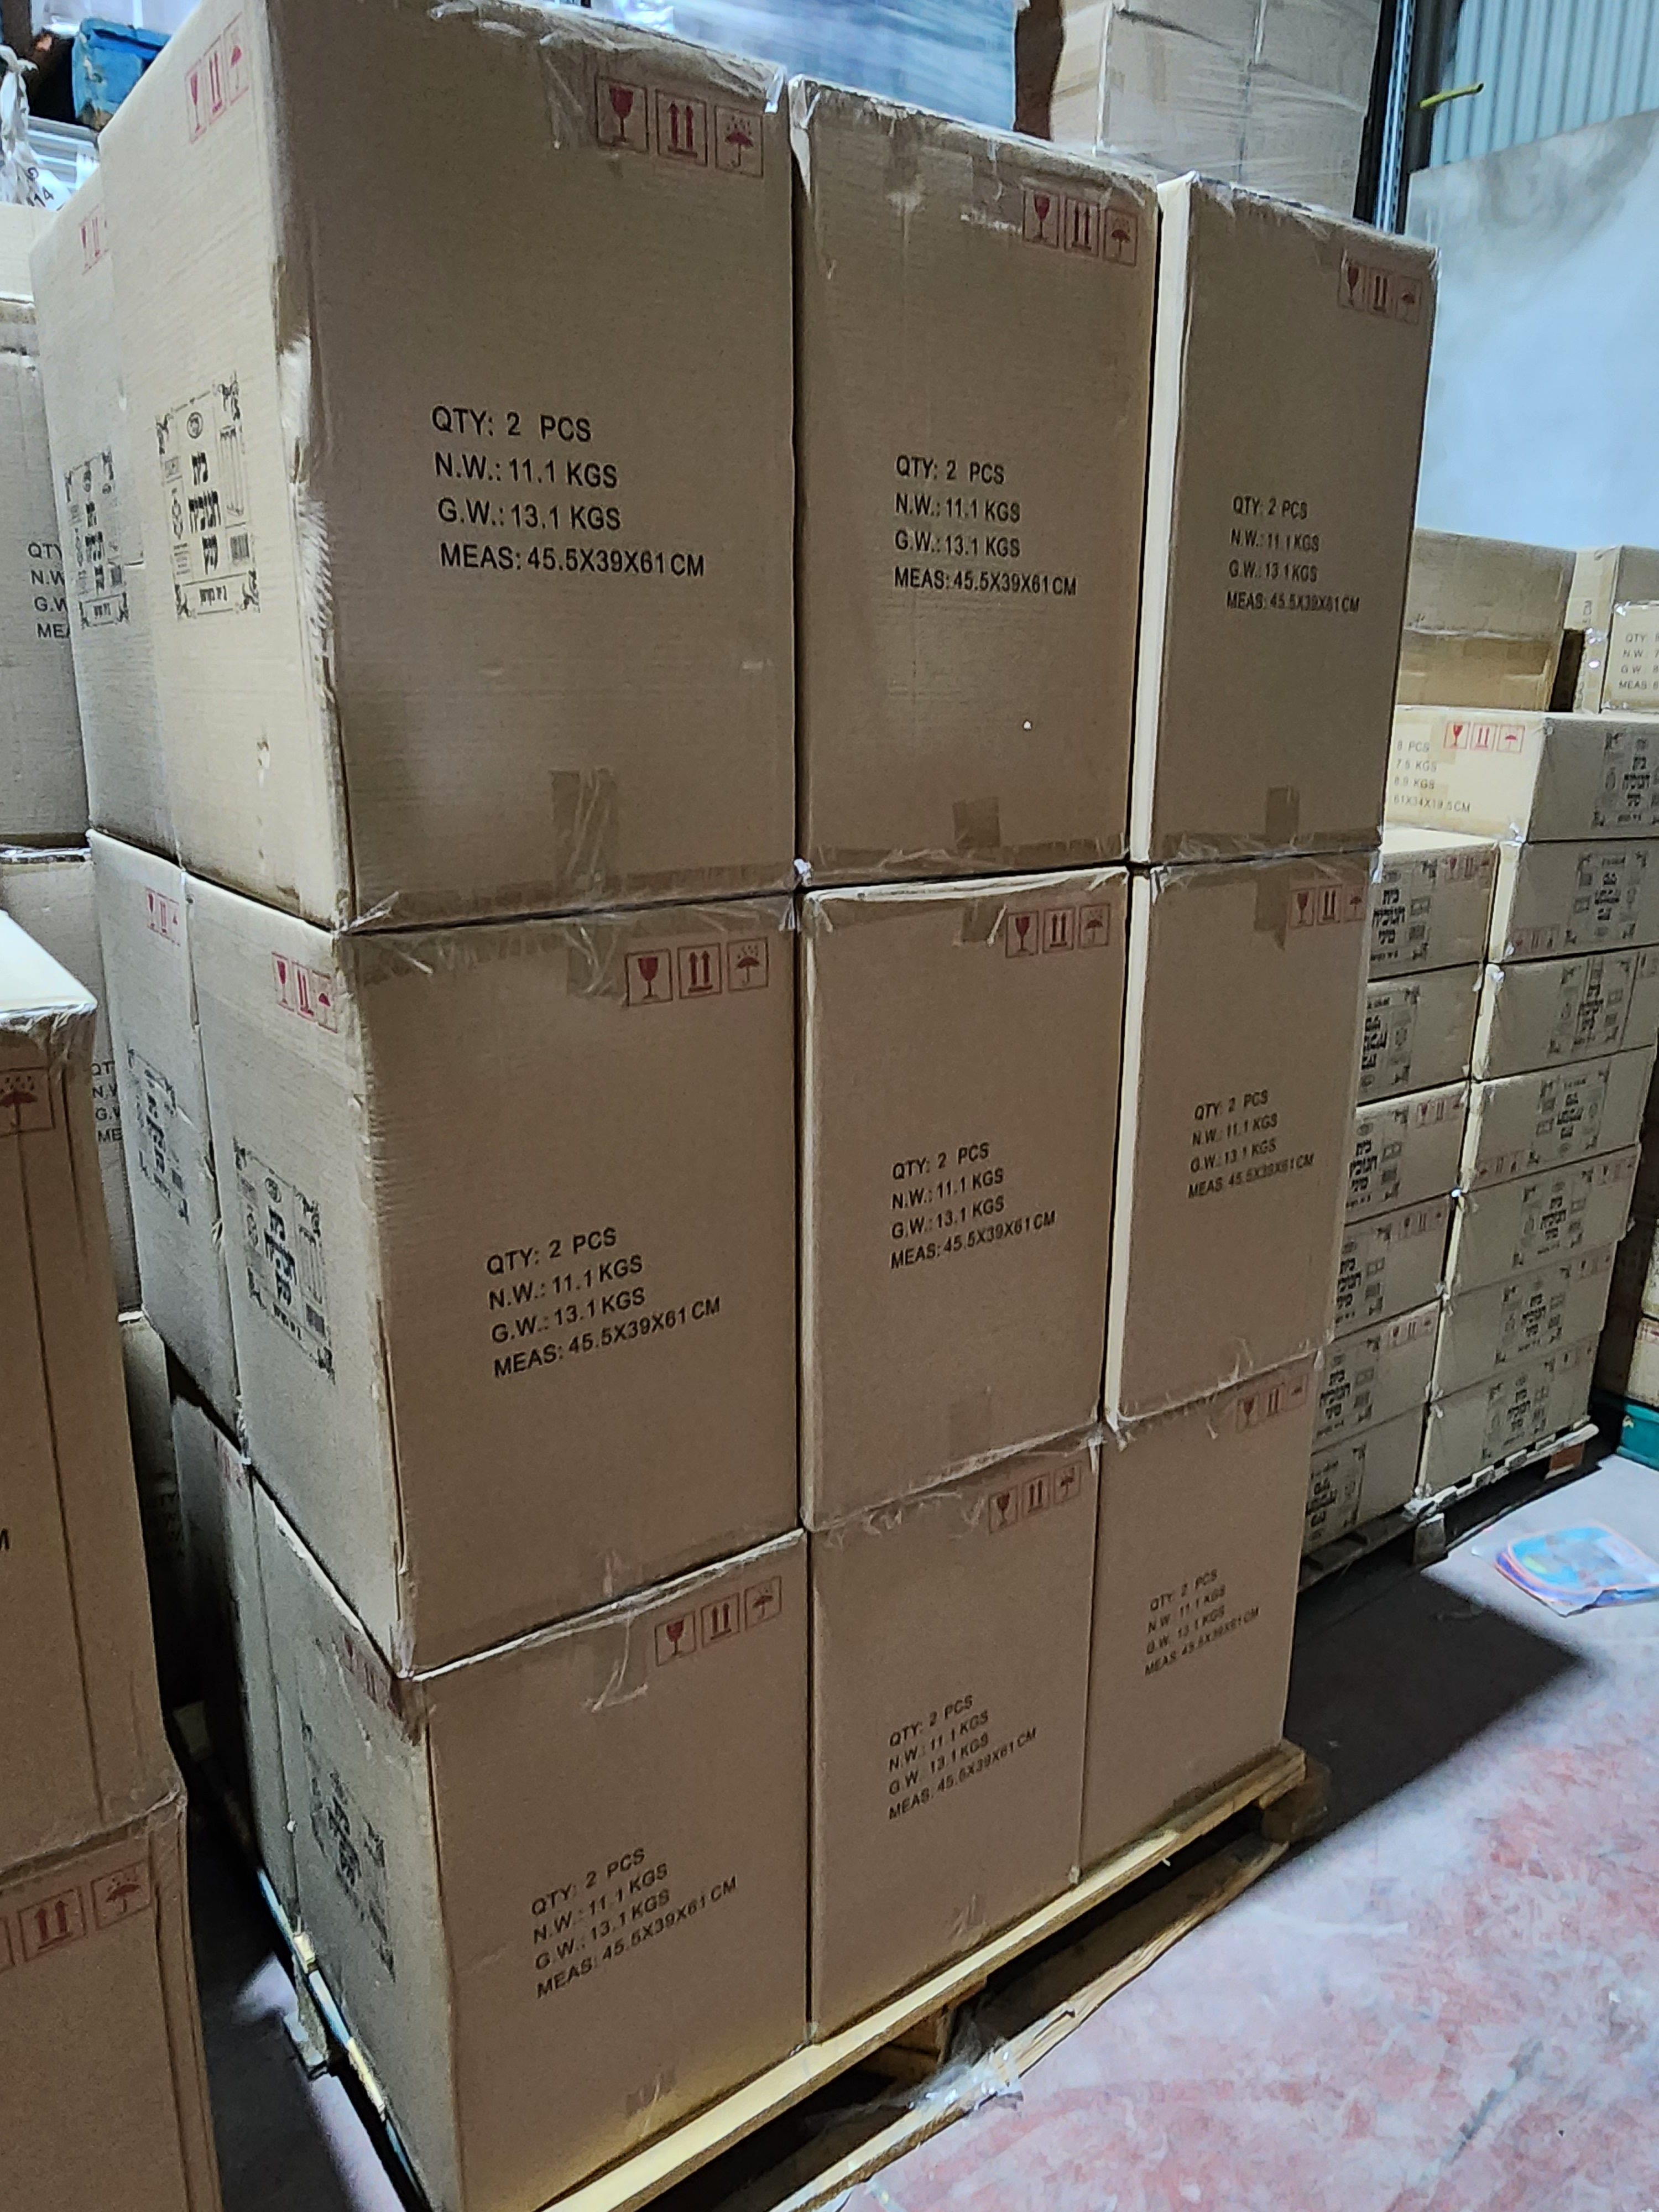box: (24, 3, 831, 930), (66, 817, 854, 1620), (228, 1458, 840, 2195), (769, 45, 1157, 920), (1124, 120, 1459, 949), (798, 848, 1124, 1526), (805, 1467, 1159, 2047), (1131, 840, 1403, 1414), (1087, 1386, 1330, 1874), (1422, 676, 1659, 866), (1471, 1050, 1657, 1204), (1448, 1271, 1642, 1406), (1455, 1174, 1638, 1301)
